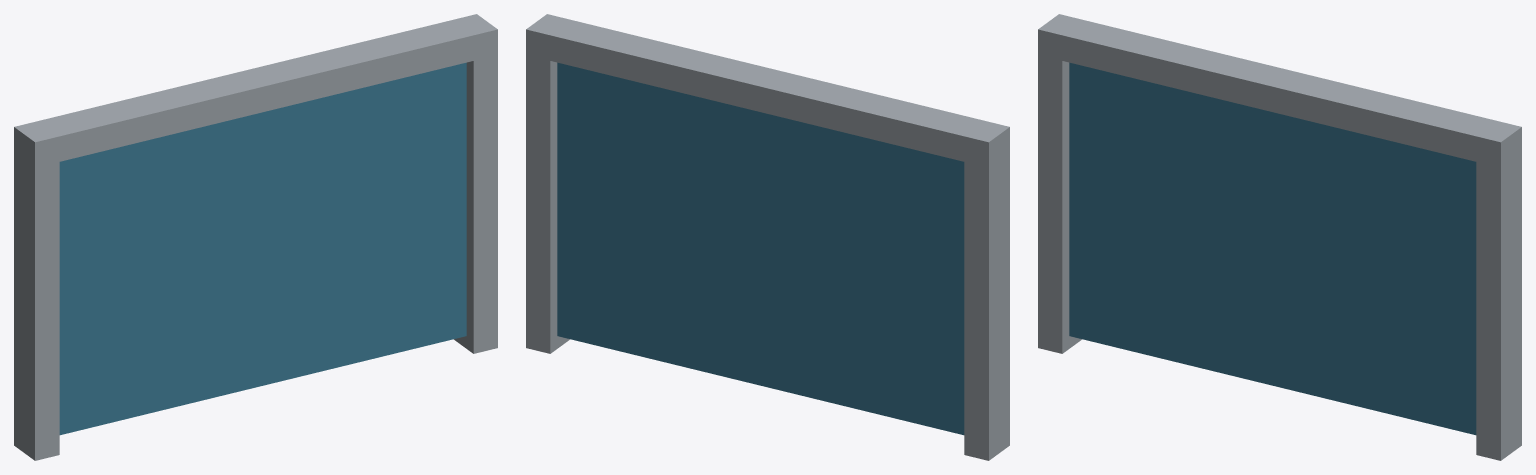
3 renders of one model, left to right at view 1: azimuth 30°, elevation 25°; view 2: azimuth 150°, elevation 25°; view 3: azimuth 330°, elevation 25°, orthographic.
Visible parts, largest first — view 1: panel, top, siden1, side1; view 2: panel, top, siden1, side1; view 3: panel, top, side1, siden1.
Boxes of the visible parts, x1,y1,x2,y2 form: panel: (59, 62, 466, 435); top: (14, 14, 497, 166); siden1: (14, 140, 59, 460); side1: (454, 42, 497, 353); panel: (557, 62, 964, 435); top: (526, 14, 1009, 166); siden1: (964, 140, 1009, 460); side1: (526, 42, 569, 353); panel: (1069, 62, 1476, 435); top: (1038, 14, 1521, 167); side1: (1476, 140, 1521, 460); siden1: (1038, 42, 1081, 353).
Bounding box in the file's own units: 1.9 × 1.25 × 0.15.
